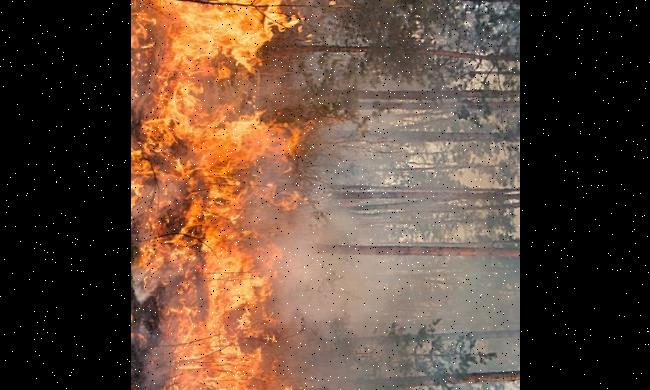fire: (130, 0, 347, 390)
